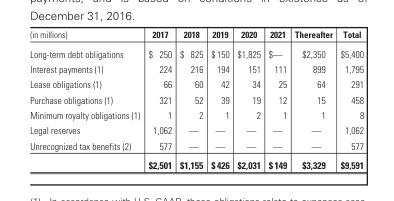table: (29, 28, 363, 170)
table column: (29, 28, 143, 170), (290, 28, 335, 170), (143, 28, 175, 170), (175, 28, 206, 170), (232, 28, 263, 170), (335, 28, 363, 170), (263, 28, 290, 170), (206, 28, 232, 170)
table column header: (29, 28, 363, 43)
table row: (29, 43, 363, 60), (29, 137, 363, 154), (29, 60, 363, 76), (29, 91, 363, 107), (29, 154, 363, 170), (29, 28, 363, 43), (29, 76, 363, 91), (29, 107, 363, 122), (29, 122, 363, 137)
